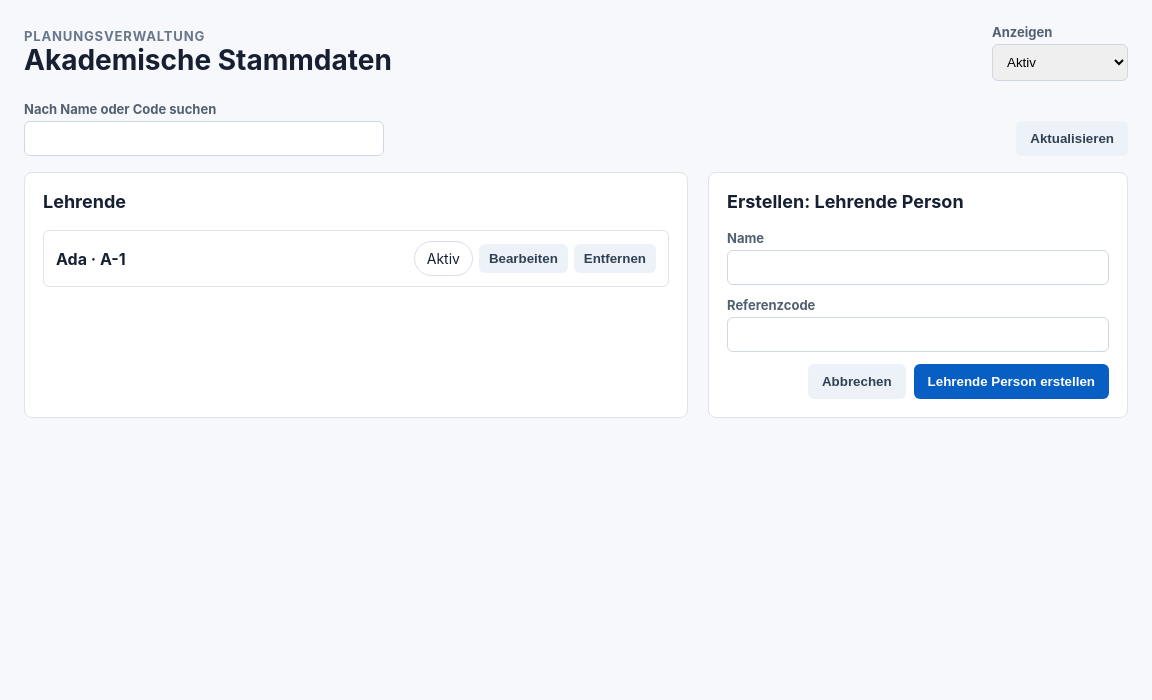
Test: AcademicDataPage › retains the selected resource and last-known content when refresh fails
This screenshot has width=1152, height=700.
Click the button "Bearbeiten". click: (523, 258)
box: [479,244,568,273]
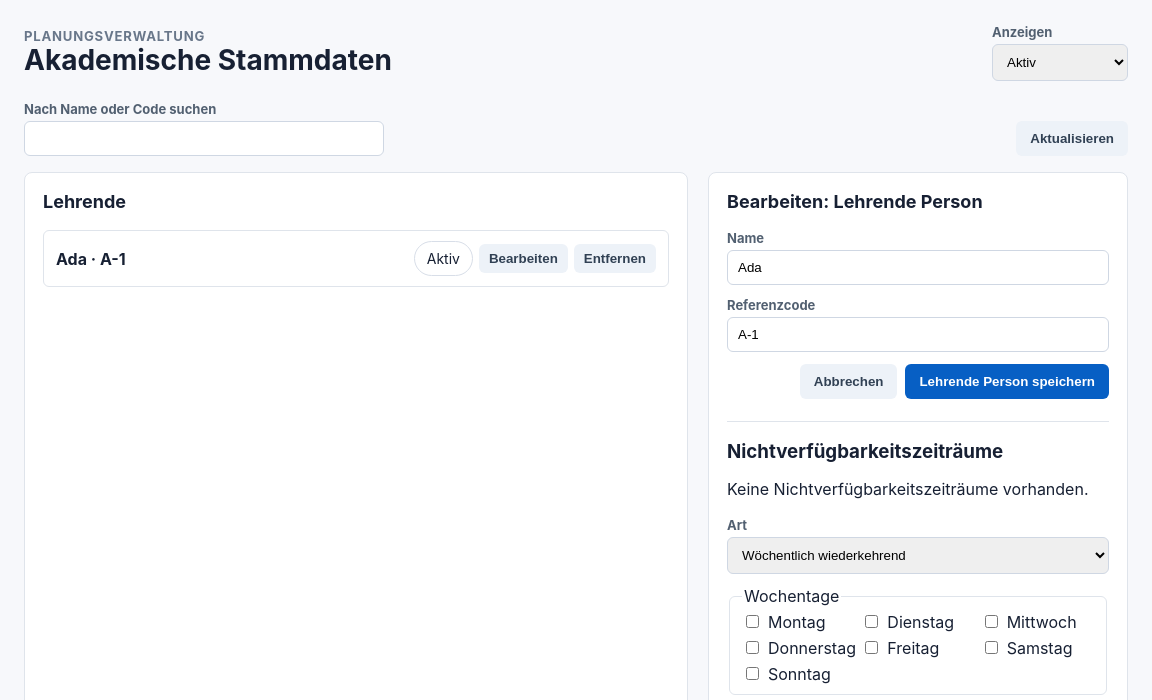
Click the button "Aktualisieren". click: (1072, 138)
box: [1016,121,1128,156]
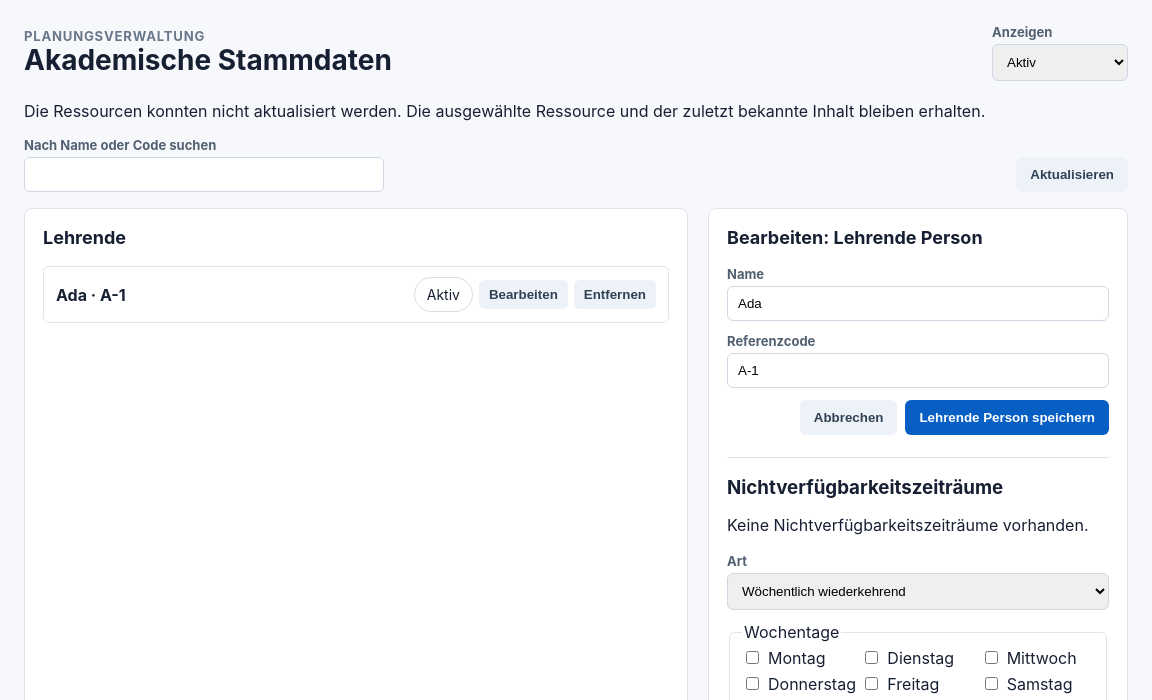
expect the field named "name" holds "Ada": met, box [727,286,1109,321]
expect the text "Ressourcen konnten nicht aktualisiert werden" is shown: met, box [24,101,985,121]
